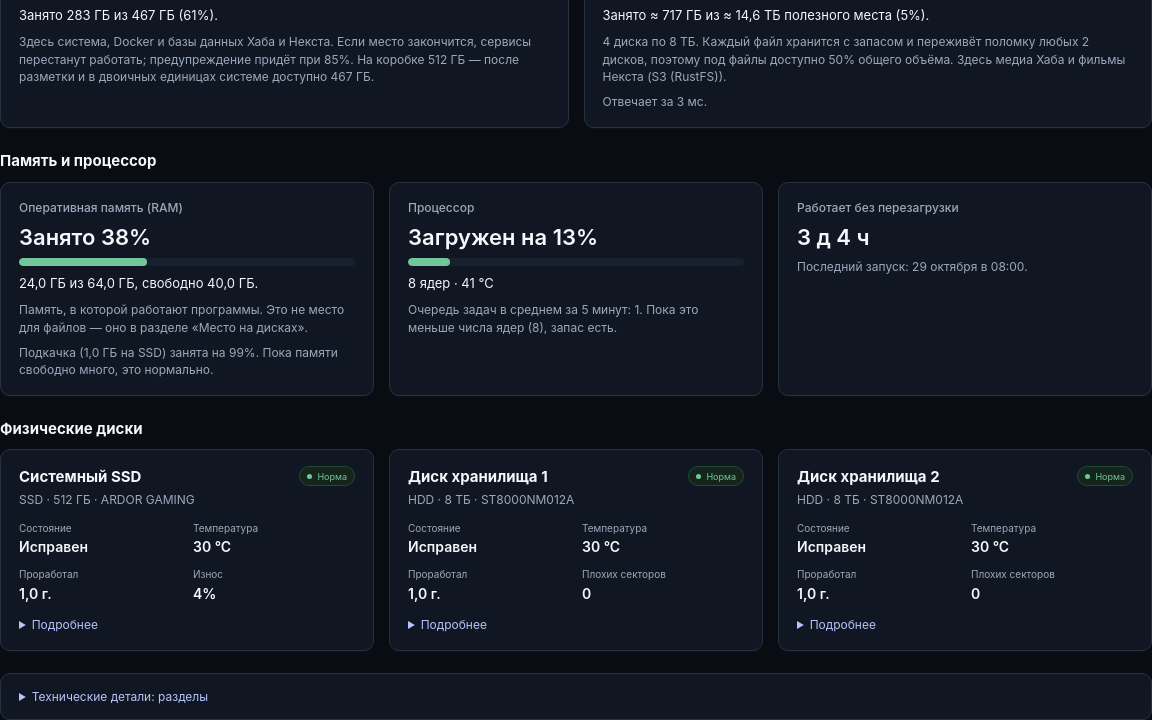
Test: server infrastructure page › names disks by role and keeps SMART counters behind "Подробнее"
(page scrolled)
Expected: the text "HDD · 8 ТБ · ST8000NM012A" below "Диск хранилища 1" is shown, [408,492,574,507]
Expected: the text "Исправен" below "Диск хранилища 1" is shown, [408,538,477,555]
What coordinates should you click on to do the following:
click the heading "Подробнее" below "Диск хранилища 1"
I would click on:
 (454, 625)
Its box is [421,617,487,632].
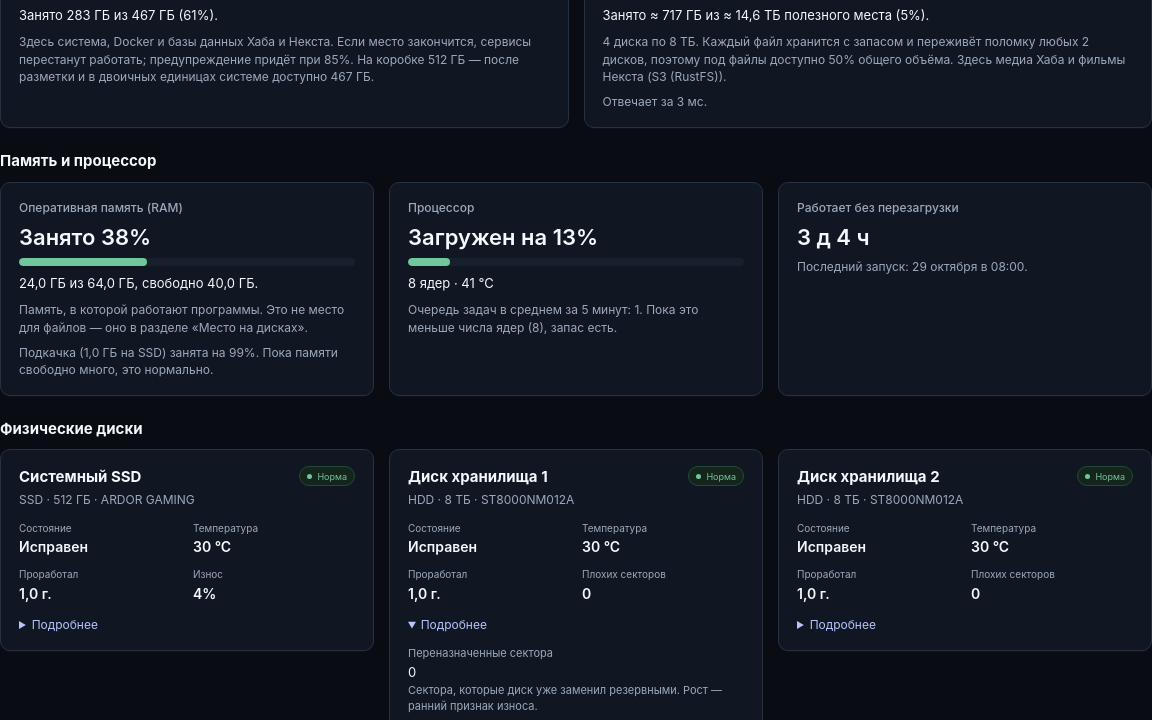
Expected: the text "Переназначенные сектора" is shown, [408,646,553,660]
